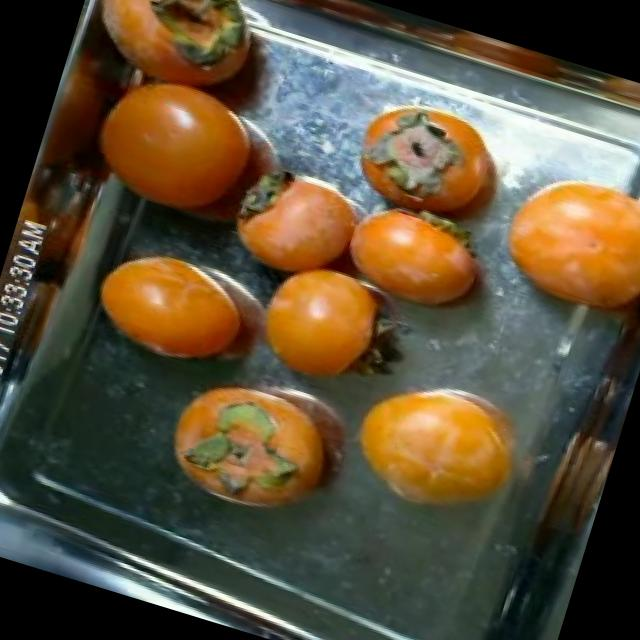Fruit: (320, 340, 556, 548), (465, 140, 640, 350), (71, 224, 272, 394), (227, 246, 411, 406), (324, 190, 516, 342), (142, 367, 316, 528)
